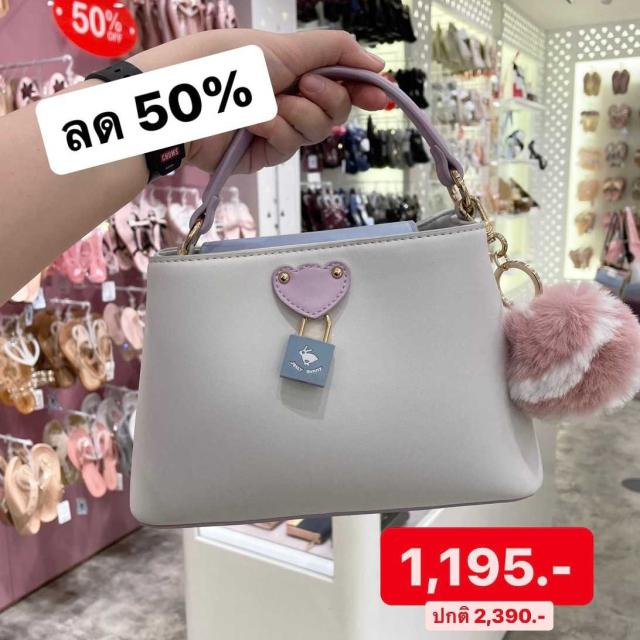Handbag: (123, 166, 562, 547)
